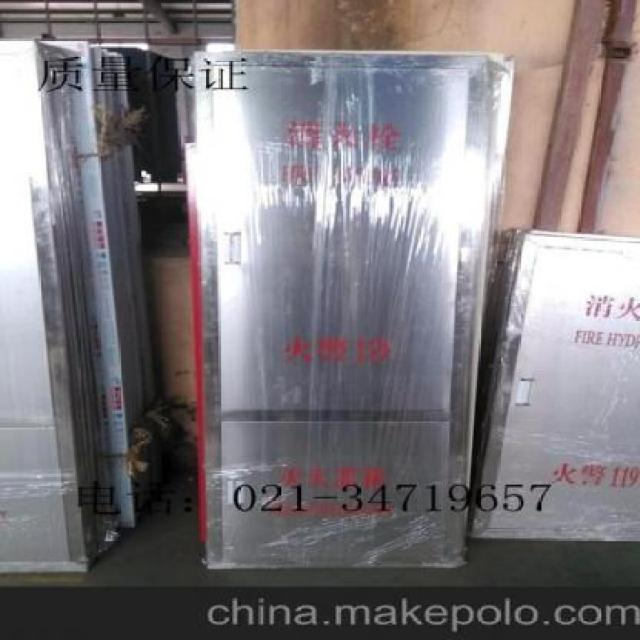firehydrant: (170, 45, 514, 578), (471, 226, 639, 548)
